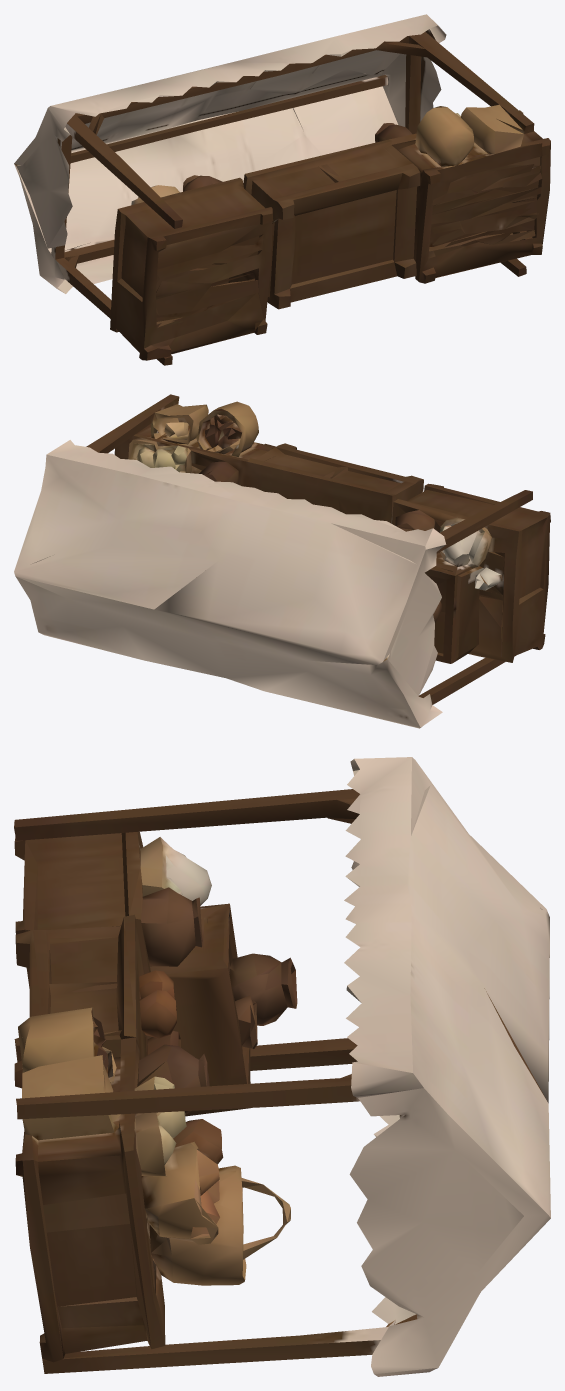
File: 市集攤販.glb
The picture shows the model from 3 angles, top to bottom: view 1: azimuth 30°, elevation 25°; view 2: azimuth 150°, elevation 25°; view 3: azimuth 270°, elevation 25°; orthographic projection. The views are drawn at different scales.
Visible parts, largest first — view 1: geometry_0; view 2: geometry_0; view 3: geometry_0.
Part boxes in pixels (bbox=[...]): geometry_0: bbox=[14, 14, 550, 365]; geometry_0: bbox=[14, 394, 550, 728]; geometry_0: bbox=[14, 757, 550, 1376].
Size of the model in its own units: 0.9771 by 0.4337 by 0.6566.
Materials: 1 (1 with a texture image).
